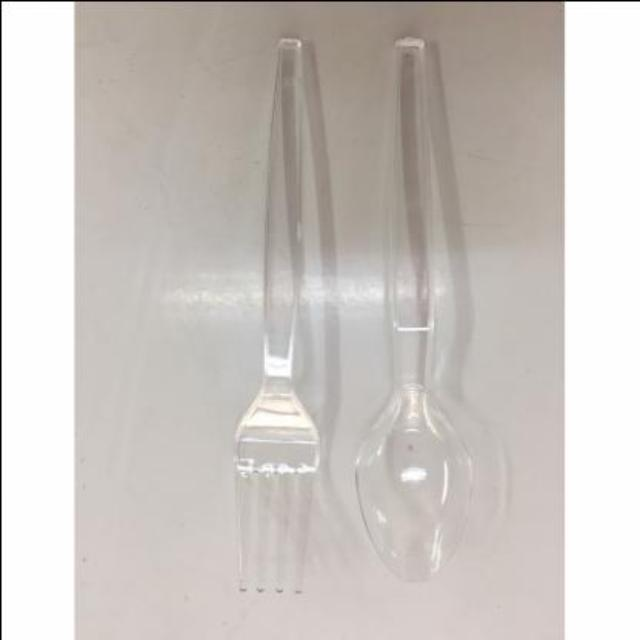plastic_box: (232, 34, 474, 596)
